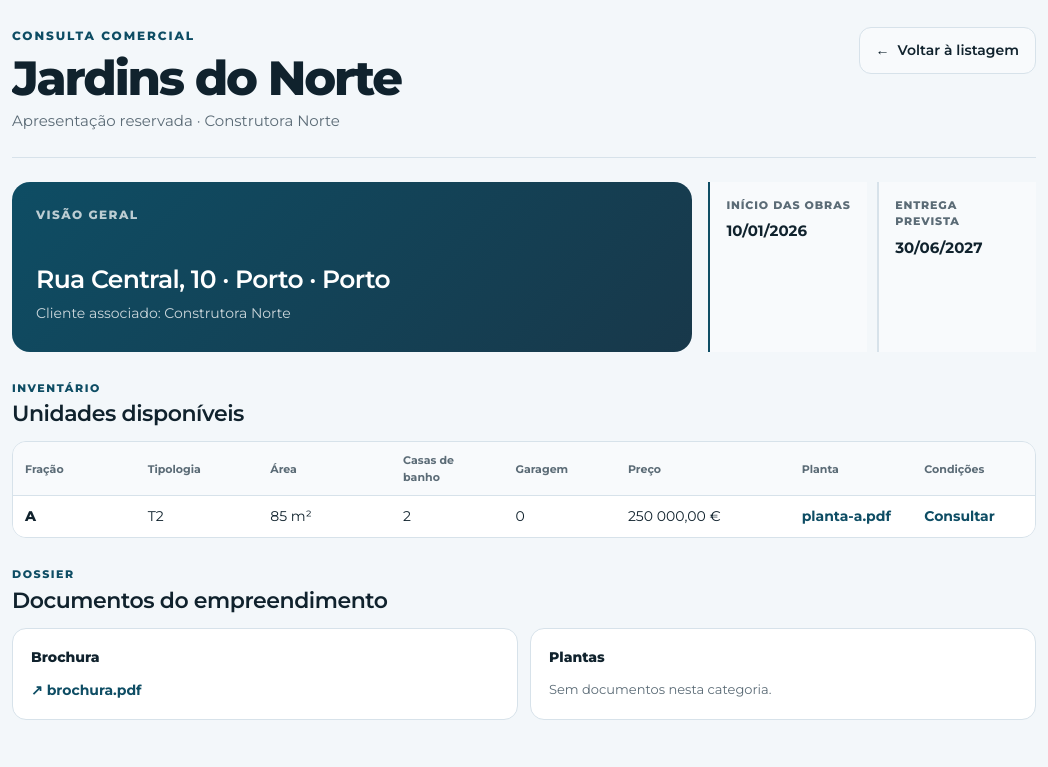
it: EmpreendimentoApresentacao › apresenta os dados comerciais, frações com preço e a consulta das condições herdadas
Expected: the heading "Jardins do Norte" is shown, [12,54,401,102]
Expected: the heading "Rua Central, 10 · Porto · Porto" is shown, [36,264,390,294]
What coordinates should you click on to do the following:
click the row "A T2 85 m² 2 0 250 000,00 € planta-a.pdf Consultar"
I would click on:
 (524, 517)
Its box is [13,496,1035,537].
(page scrolled)
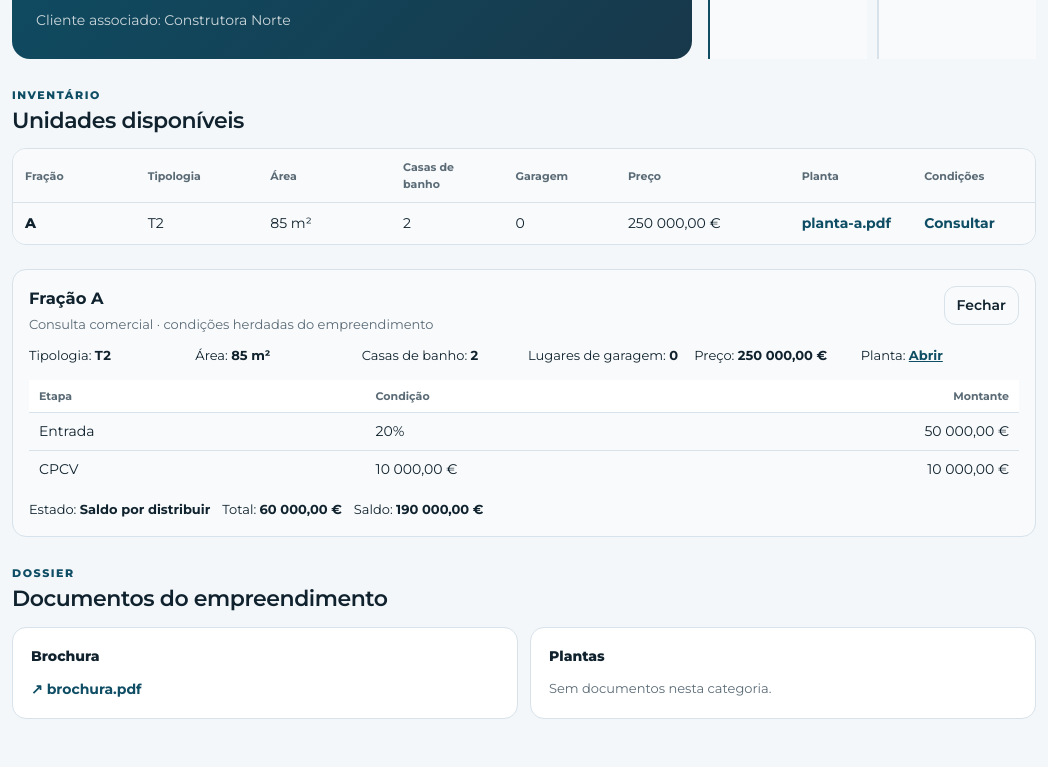
Expected: the element named "Detalhe da fração A" shows "Entrada", [39,422,95,440]
Expected: the element named "Detalhe da fração A" shows "CPCV", [39,460,79,478]
Expected: the element named "Detalhe da fração A" shows "Casas de banho: 2", [12,269,1036,537]
